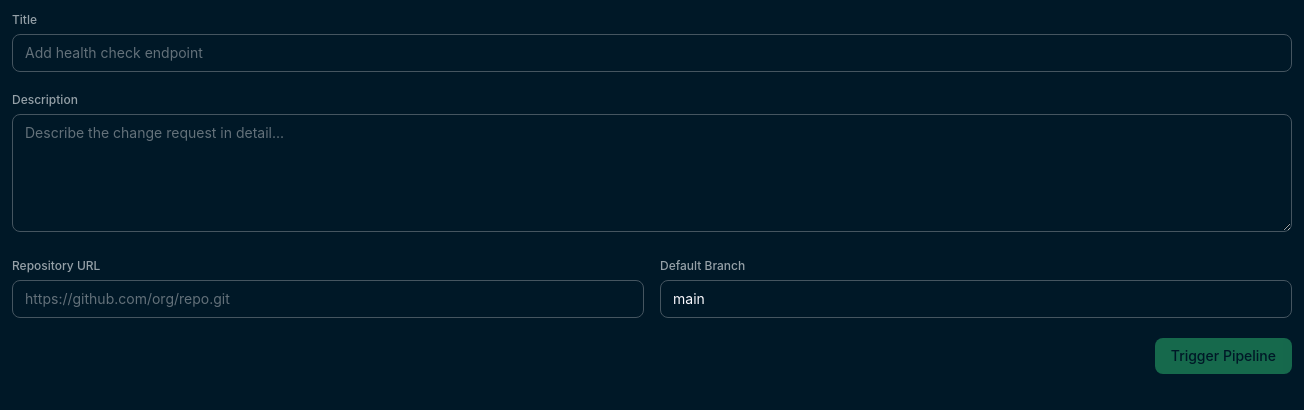
CRForm › shows error for invalid URL
Type "not-a-url" into the field with placeholder "https://github.com/org/repo.git" at (328, 299), box [12, 280, 644, 318]
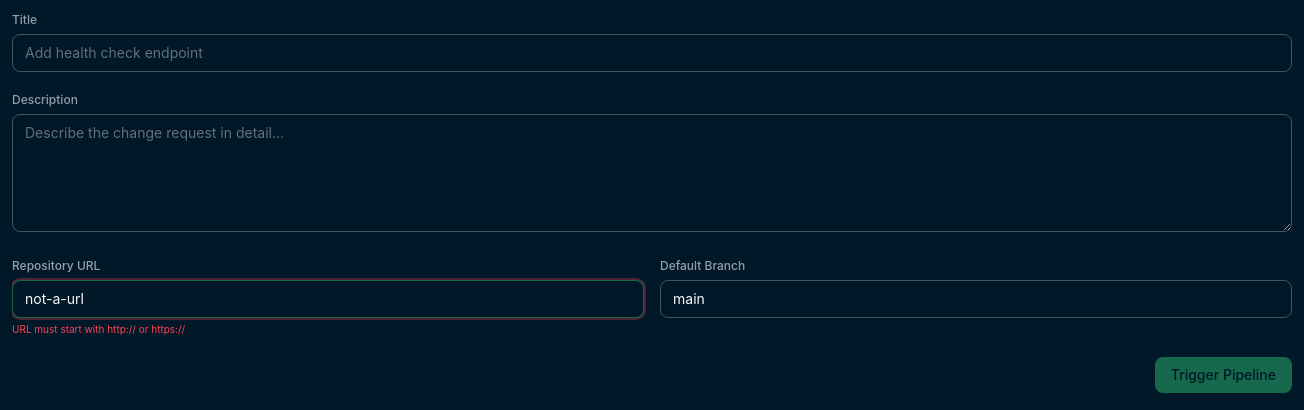
Check: the text "URL must start with http:// or https://" is shown, box [12, 323, 185, 335]
